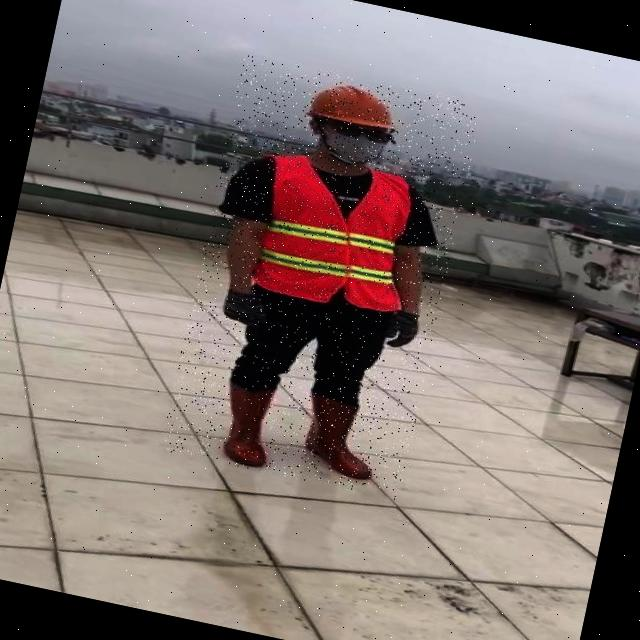boots: (298, 390, 392, 486), (204, 378, 282, 471)
helmet: (298, 73, 407, 135)
vest: (243, 149, 431, 320)
